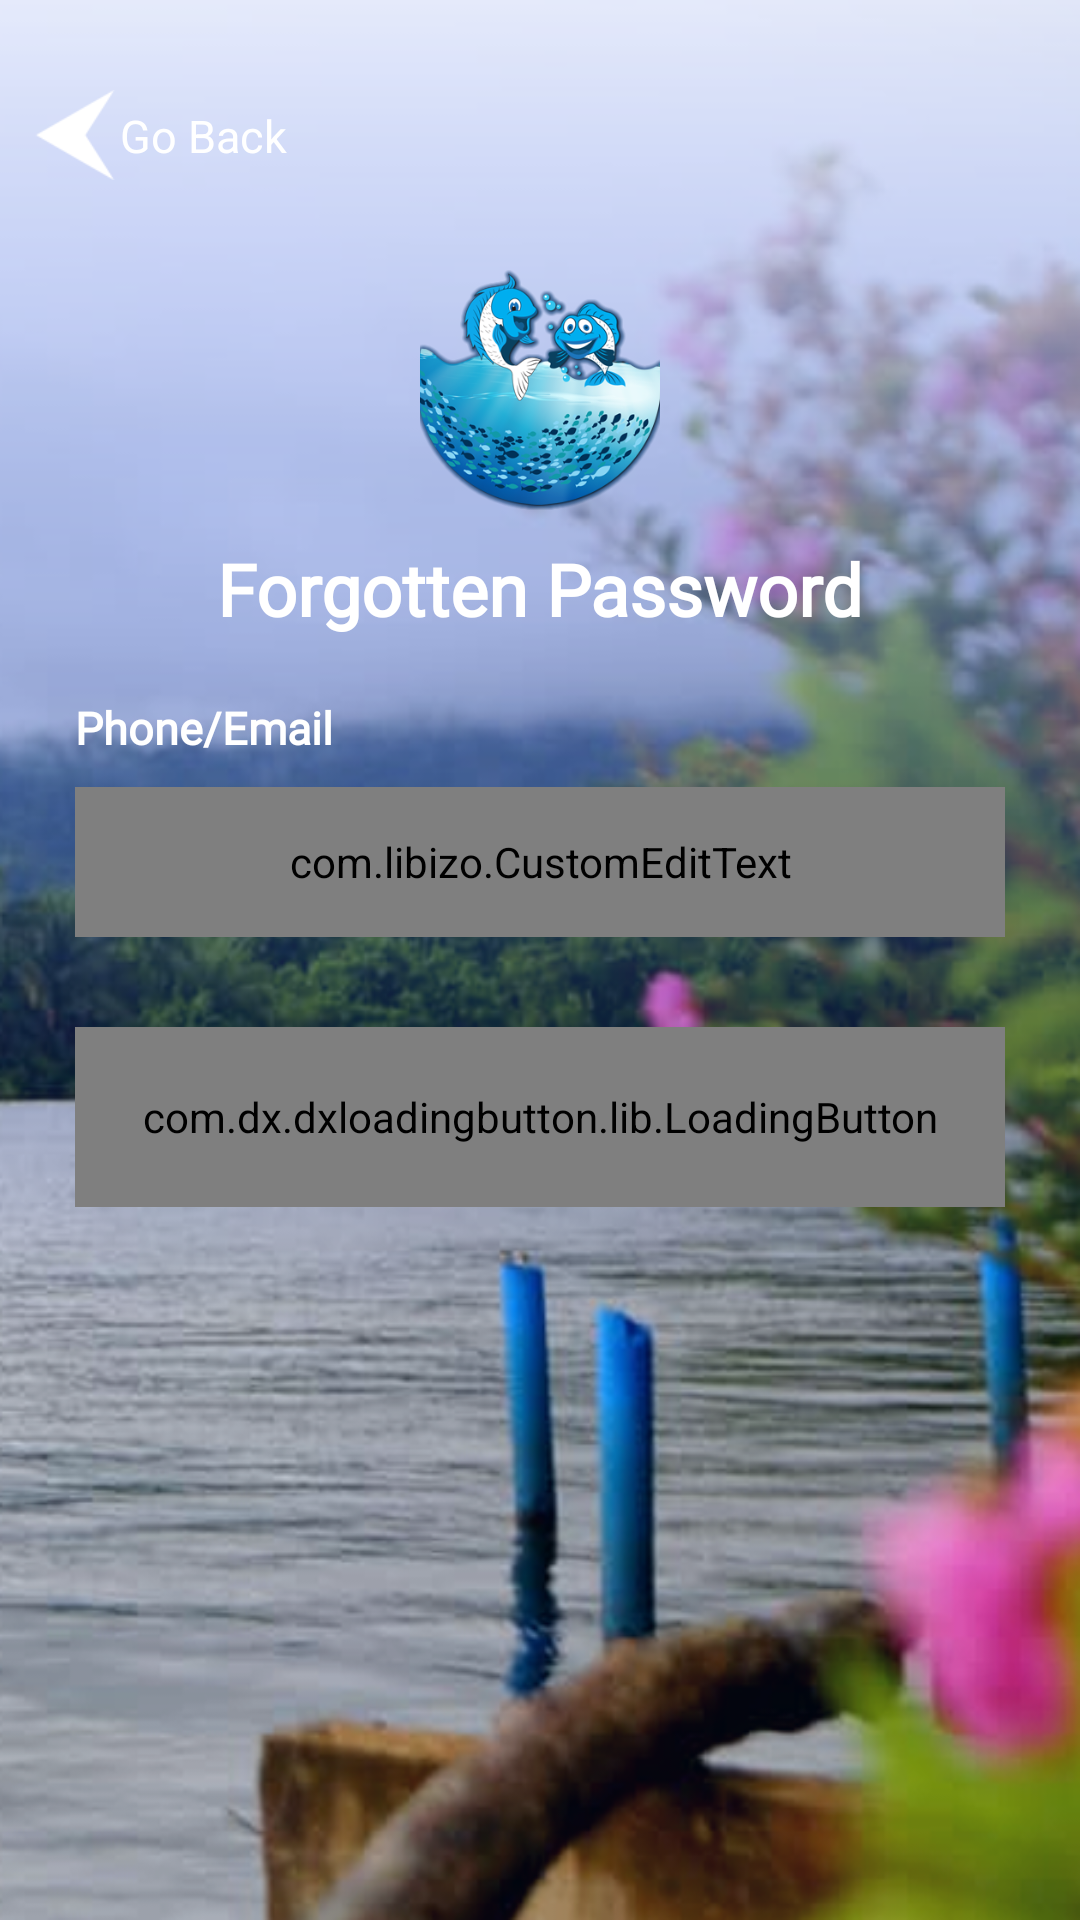

Locate icon controls on the screen. Image size 1080x1920, boxes as (x1, y1, x2, y2).
arrowwhite: (37, 91, 113, 178)
